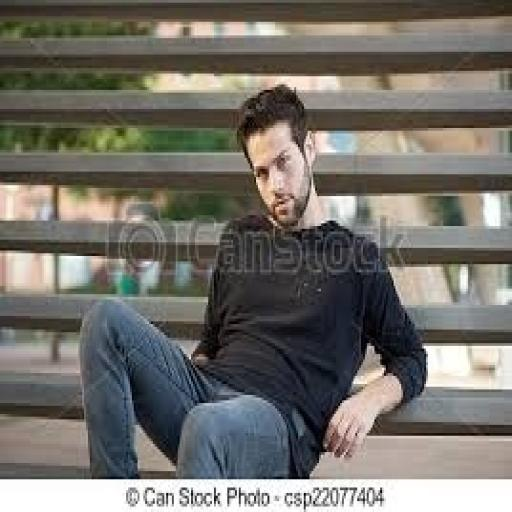sitting: (74, 82, 428, 479)
